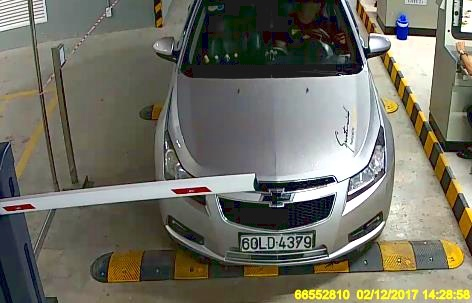plate: (235, 230, 314, 252)
